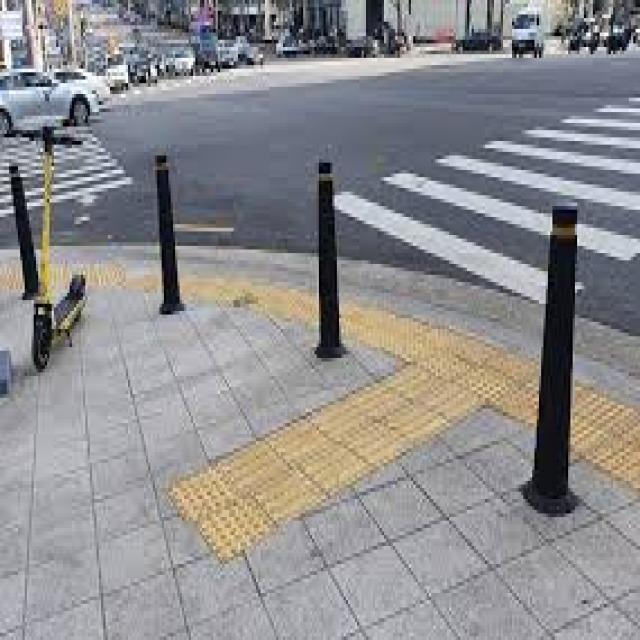bollard: (521, 194, 589, 522), (312, 143, 353, 366), (146, 145, 186, 316), (7, 155, 40, 297)
